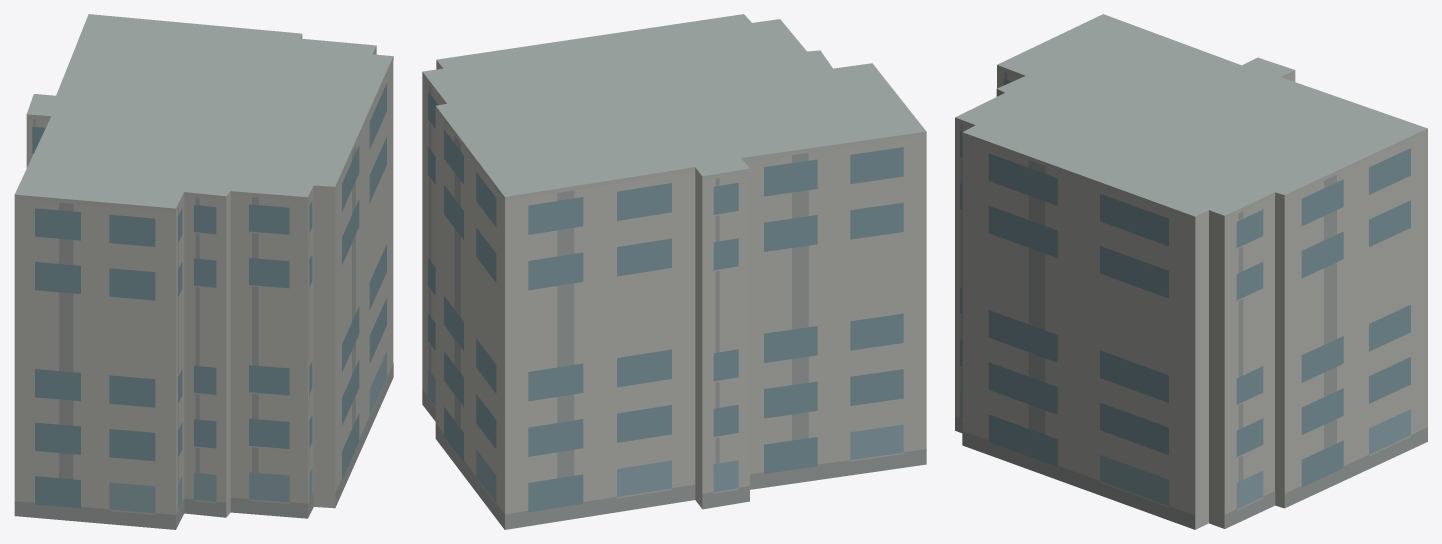
The model's file is survey-upis-32909389.glb.
3 views of the same model, side by side, from view 1: azimuth 30°, elevation 25°; view 2: azimuth 150°, elevation 25°; view 3: azimuth 270°, elevation 25° (orthographic). The views are drawn at different scales.
Visible parts, largest first — view 1: survey-upis-32909389.tmp; view 2: survey-upis-32909389.tmp; view 3: survey-upis-32909389.tmp.
Part boxes in pixels (box(x1,y1,x2,y2)): survey-upis-32909389.tmp: box(14, 14, 393, 529); survey-upis-32909389.tmp: box(422, 14, 926, 529); survey-upis-32909389.tmp: box(955, 14, 1427, 529).
Size of the model in its own units: 26.02 by 18.75 by 25.66.
